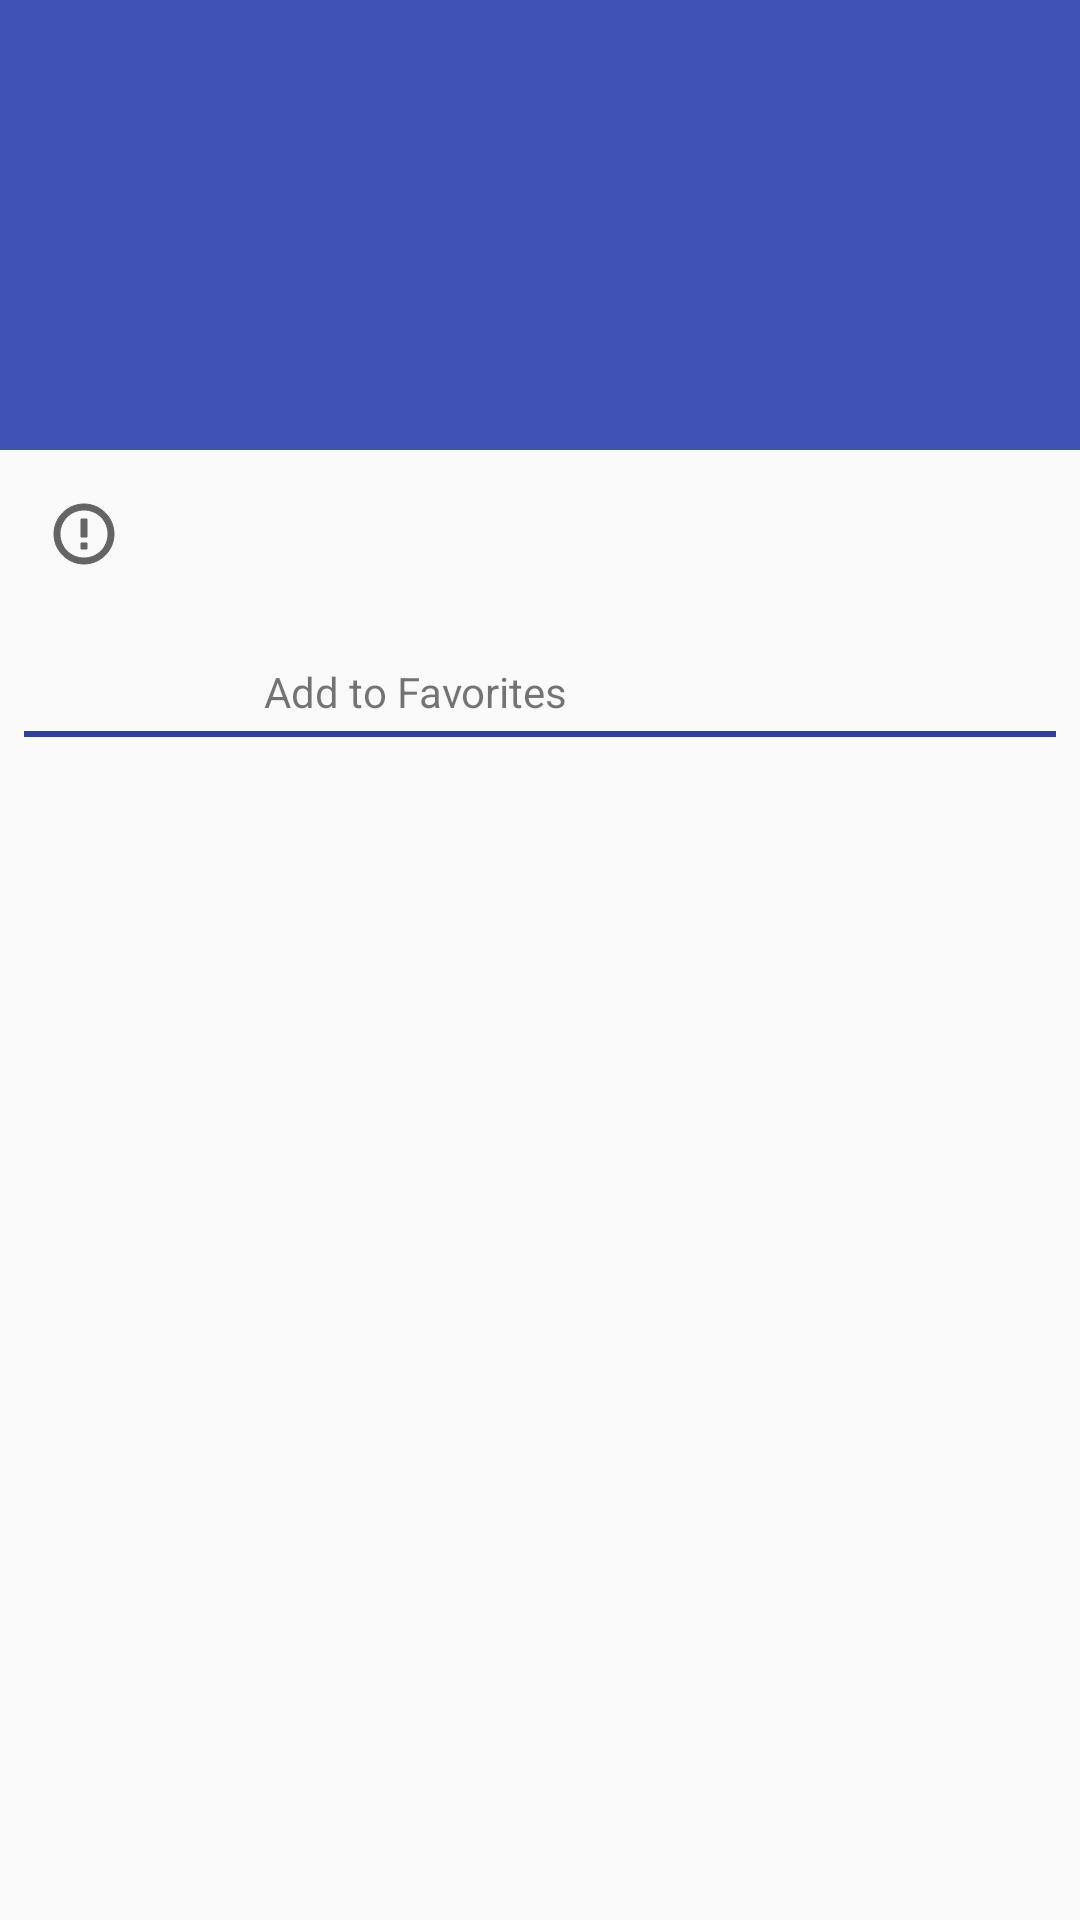

Icon click points for this 1080 × 1920 phone screenshot, format [x,y]:
error: [84,534]
